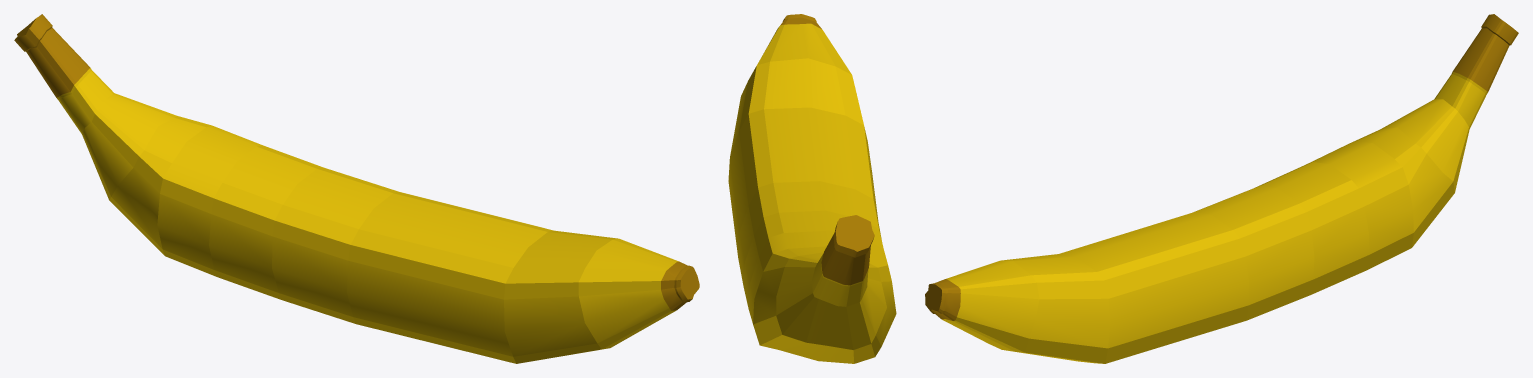
File: Banana.fbx
3 views of the same model, side by side, from view 1: azimuth 30°, elevation 25°; view 2: azimuth 150°, elevation 25°; view 3: azimuth 270°, elevation 25° (orthographic). The views are drawn at different scales.
Parts seen in each view (by area): view 1: Banana; view 2: Banana; view 3: Banana.
Boxes of the visible parts, x1=… form: Banana: x1=14, y1=14, x2=699, y2=363; Banana: x1=728, y1=14, x2=896, y2=363; Banana: x1=925, y1=14, x2=1518, y2=363.
Bounding box in the file's own units: 2.96 × 1.75 × 4.26.
